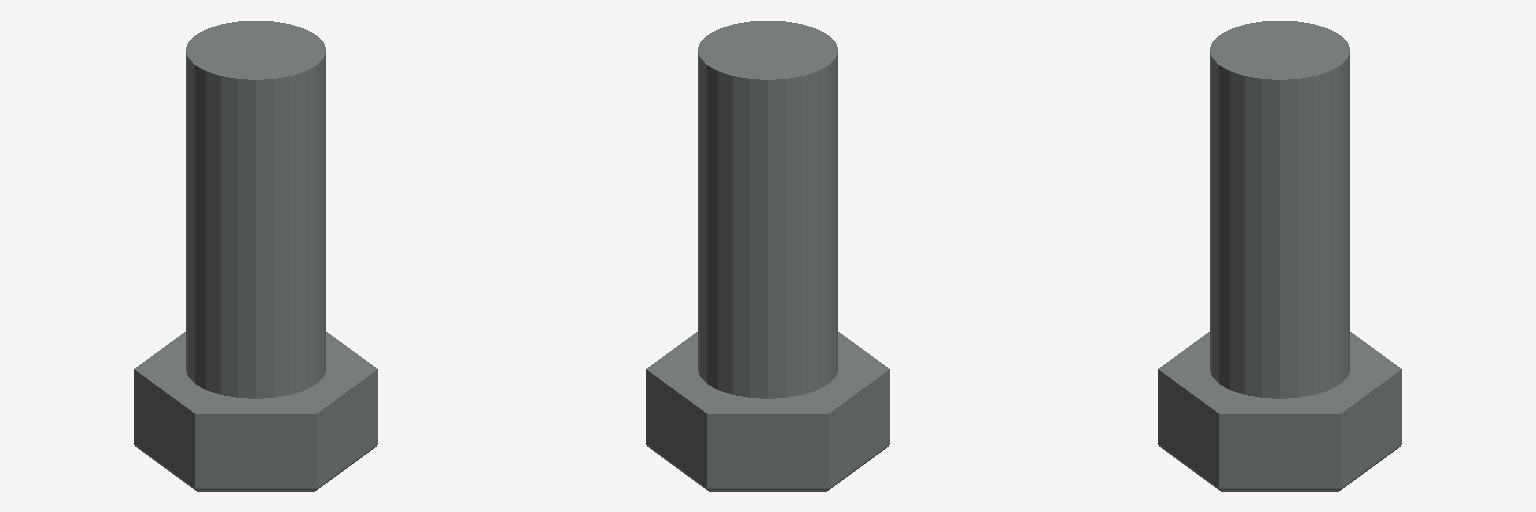
URDF robot description (bolt):
<?xml version="1.0" encoding="utf-8"?>
<!-- This URDF was automatically created by SolidWorks to URDF Exporter! Originally created by [author] ([email redacted]) 
     Commit Version: 1.5.1-0-g916b5db  Build Version: 1.5.7152.31018
     For more information, please see http://wiki.ros.org/sw_urdf_exporter -->
<robot
  name="bolt">
  <link
    name="bolt">
    <inertial>
      <origin
        xyz="-3.70694886070381E-19 3.17610523136278E-18 0.030663"
        rpy="0 0 0" />
      <mass
        value="0.14283" />
      <inertia
        ixx="0.00019916"
        ixy="6.2E-21"
        ixz="-1.9041E-20"
        iyy="0.00019916"
        iyz="-2.49214039024063E-20"
        izz="3.8808E-05" />
    </inertial>
    <visual>
      <origin
        xyz="0 0 0"
        rpy="1.5707963267949 7.03683629758869E-17 -6.84227765783602E-49" />
      <geometry>
        <mesh
          filename="package://bolt/meshes/bolt.STL" />
      </geometry>
      <material
        name="">
        <color
          rgba="0.52941 0.54902 0.54902 1" />
        <texture
          filename="package://bolt/textures/" />
      </material>
    </visual>
    <collision>
      <origin
        xyz="0 0 0"
        rpy="1.5707963267949 7.03683629758869E-17 -6.84227765783602E-49" />
      <geometry>
        <mesh
          filename="package://bolt/meshes/bolt.STL" />
      </geometry>
    </collision>
  </link>
</robot>

--- Facts derived from the render (not from the file) ---
Views: 3 orthographic renders of the robot side by side, from view 1: azimuth 30°, elevation 25°; view 2: azimuth 150°, elevation 25°; view 3: azimuth 270°, elevation 25°.
Model bolt with 1 links and 0 joints (none), rooted at bolt, posed all joints at 0.
Links seen in each view (by area): view 1: bolt; view 2: bolt; view 3: bolt.
Link boxes in pixels (x1=…): bolt: x1=134, y1=21, x2=377, y2=491; bolt: x1=646, y1=21, x2=889, y2=491; bolt: x1=1158, y1=21, x2=1401, y2=491.
Bounding box of the posed robot: 0.036 × 0.0416 × 0.075 m (x, y, z).
1 mesh visuals loaded from 1 distinct referenced files (1 binary STL).